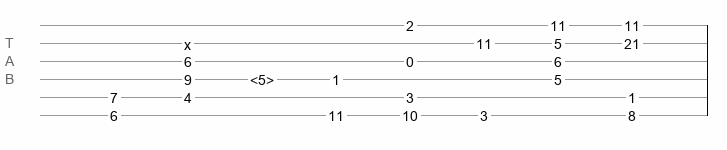0: (406, 54, 414, 64)
1: (332, 72, 340, 82), (628, 90, 636, 100)
10: (402, 108, 418, 118)
11: (328, 108, 344, 118), (476, 36, 492, 46), (550, 18, 566, 28), (624, 18, 640, 28)
2: (406, 18, 414, 28)
21: (624, 36, 640, 46)
3: (406, 90, 414, 100), (480, 108, 488, 118)
4: (184, 90, 192, 100)
5: (554, 72, 562, 82), (554, 36, 562, 46)
6: (110, 108, 118, 118), (184, 54, 192, 64), (554, 54, 562, 64)
7: (110, 90, 118, 100)
8: (628, 108, 636, 118)
9: (184, 72, 192, 82)
harmonic: (250, 72, 274, 82)
x: (184, 37, 191, 45)
